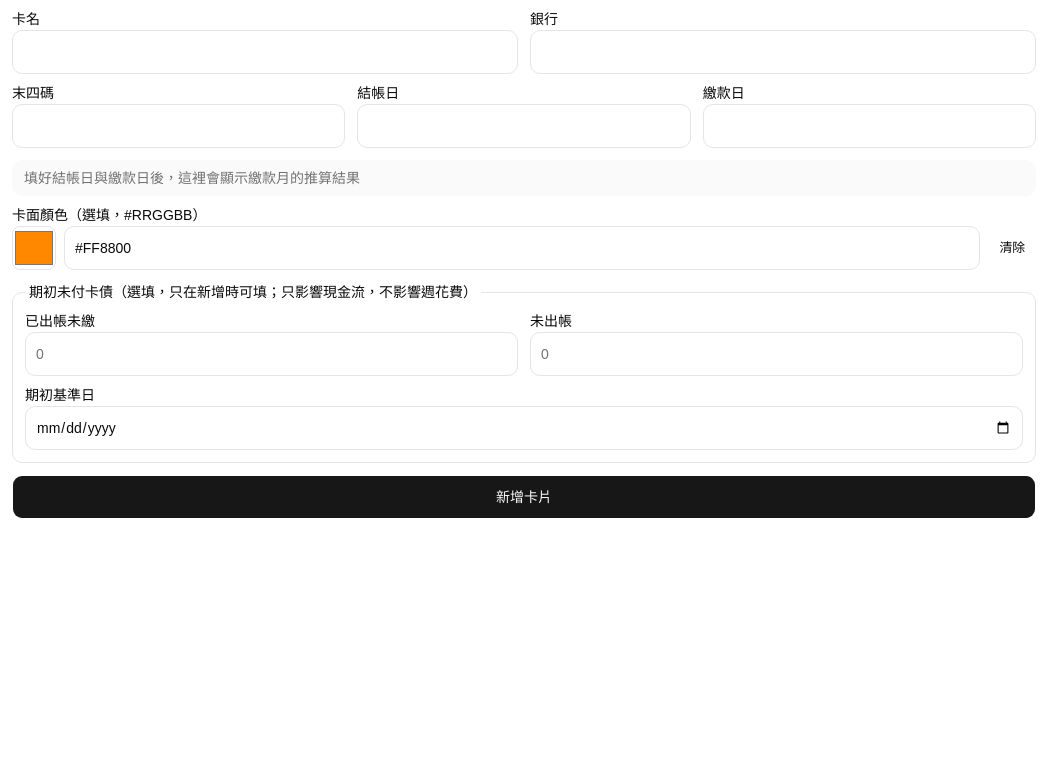
Test: CardForm 檢核與錯誤 › error.fields 沒有對應輸入框的欄位（is_active）→ 表單頂部顯示整體錯誤含欄位名，按鈕從「送出中」放開
The width and height of the screenshot is (1048, 780).
Type "主卡" into the field labelled "卡名" at (265, 52), box [12,30,518,74]
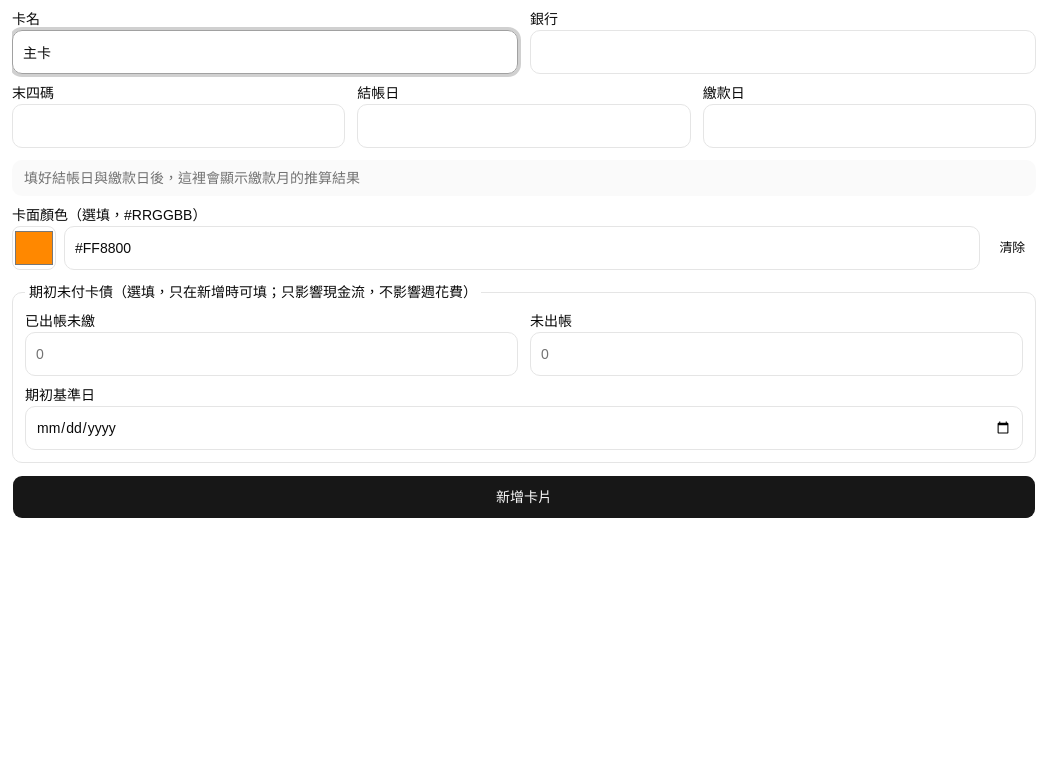
Type "台新" into the field labelled "銀行" at (783, 52), box [530,30,1036,74]
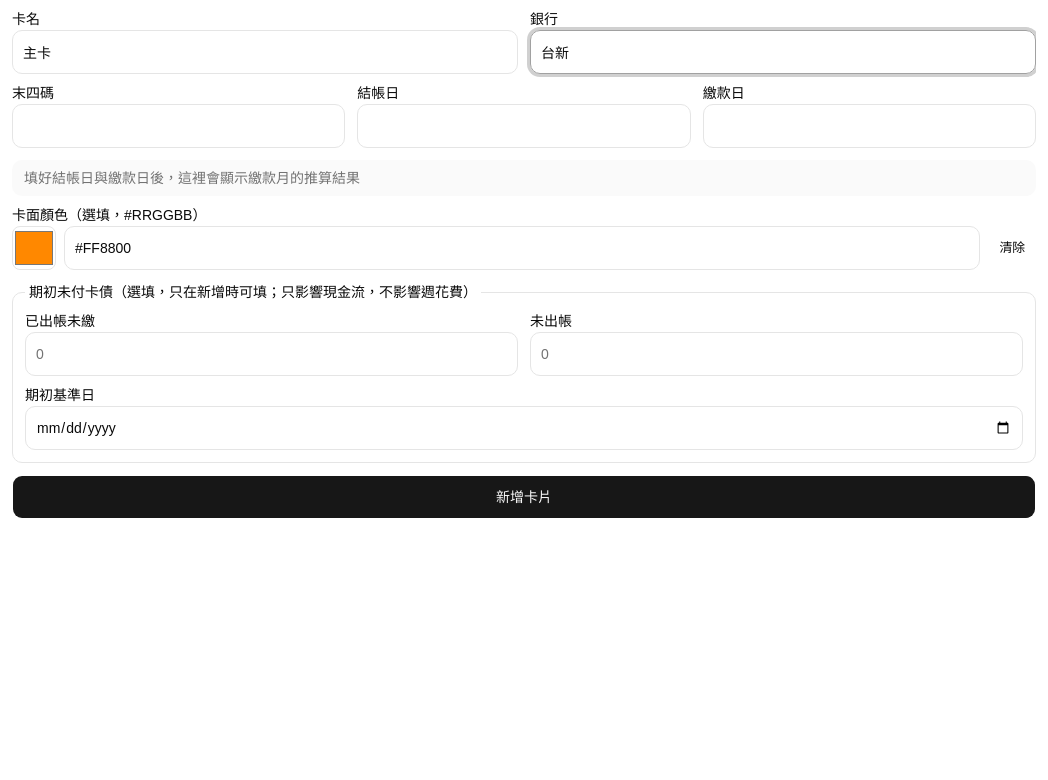
Type "1234" into the field labelled "末四碼" at (179, 126), box [12,104,345,148]
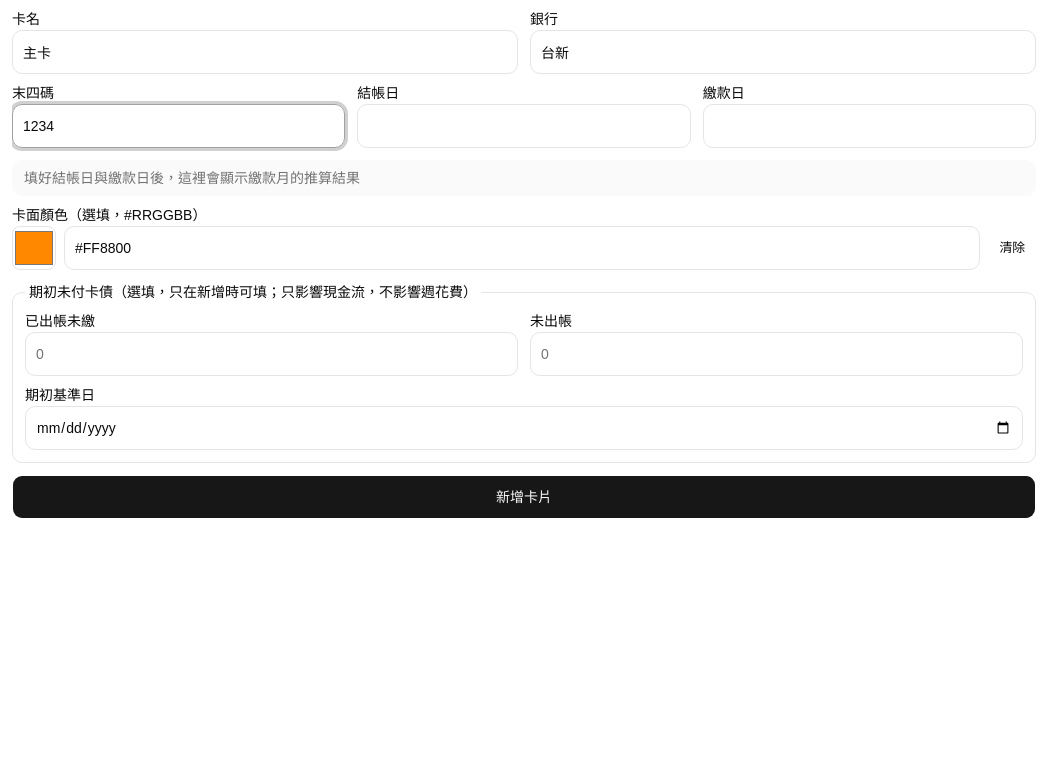
Type "27" into the field labelled "結帳日" at (524, 126), box [357,104,691,148]
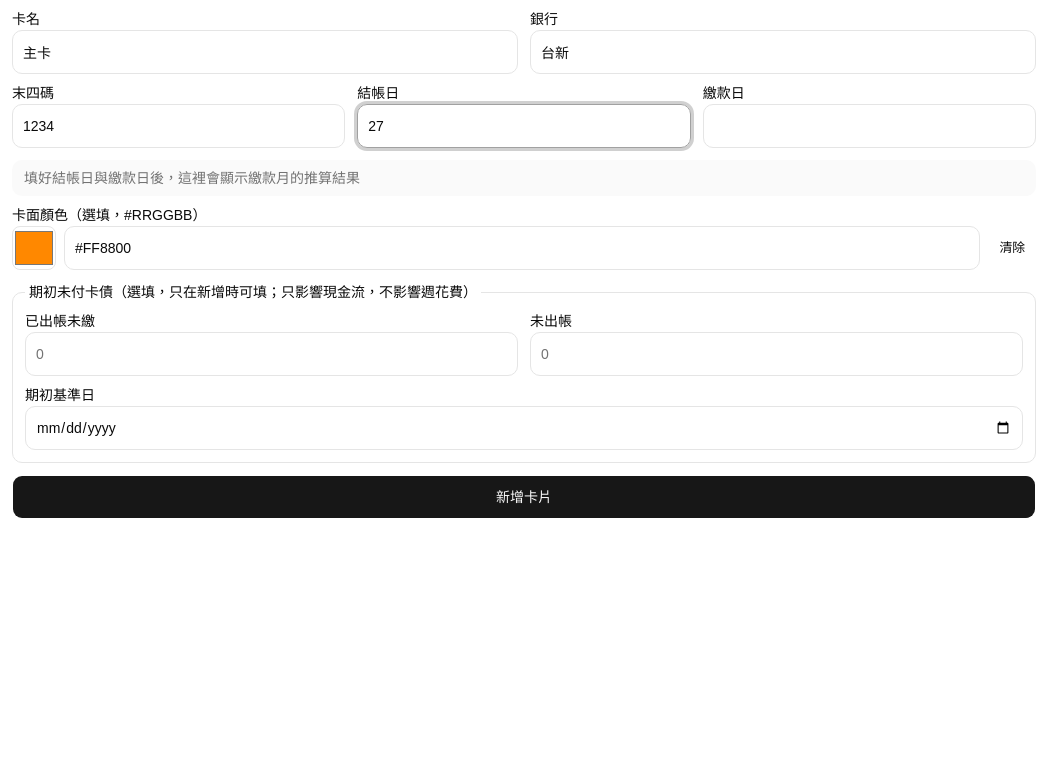
Type "11" into the field labelled "繳款日" at (869, 126), box [703,104,1036,148]
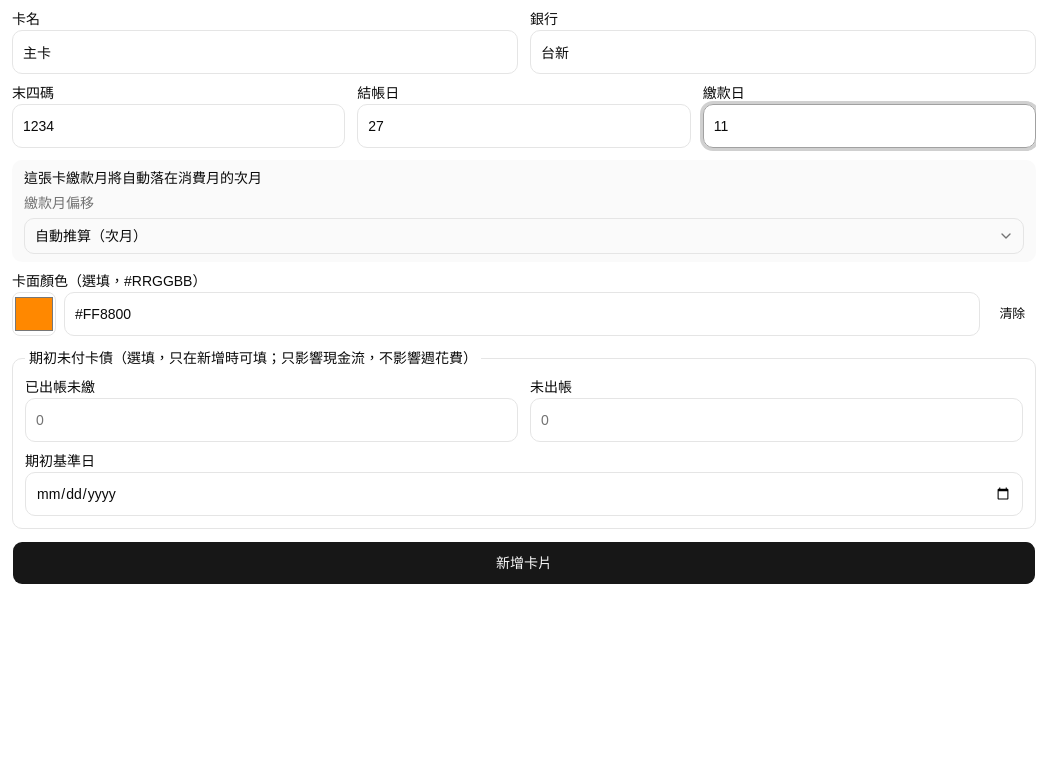
Click the button with test id "submit" at (524, 563), box [12,541,1036,585]
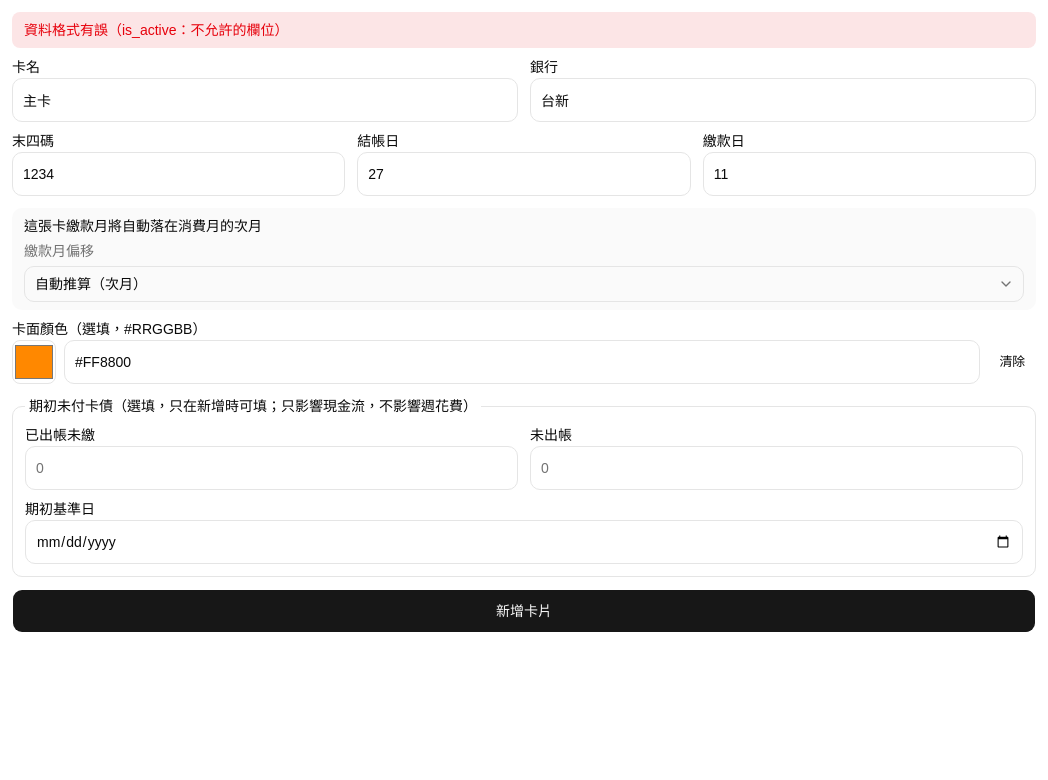
Check: the button with test id "submit" is enabled, box [12,589,1036,633]
Check: the message with test id "form-error" reads "資料格式有誤（is_active：不允許的欄位）", box [24,22,288,38]
